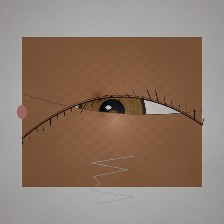foreign_body_visible: (97, 102, 130, 129)
